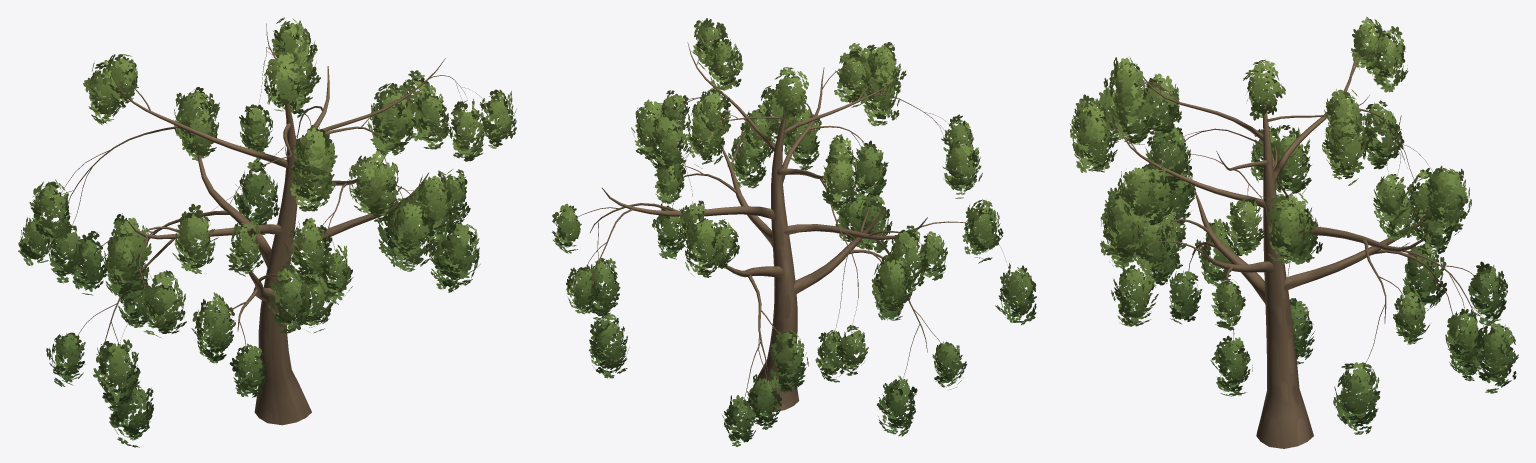
The model's file is tree.gltf.
3 views of the same model, side by side, from view 1: azimuth 30°, elevation 25°; view 2: azimuth 150°, elevation 25°; view 3: azimuth 270°, elevation 25° (orthographic). The views are drawn at different scales.
Parts seen in each view (by area): view 1: Tree_LOD0; view 2: Tree_LOD0; view 3: Tree_LOD0.
Boxes of the visible parts, x1,y1,x2,y2 form: Tree_LOD0: [18, 17, 516, 447]; Tree_LOD0: [552, 18, 1036, 446]; Tree_LOD0: [1070, 16, 1518, 448].
Size of the model in its own units: 20.85 by 17.48 by 19.12.
2 materials, 2 textured.
